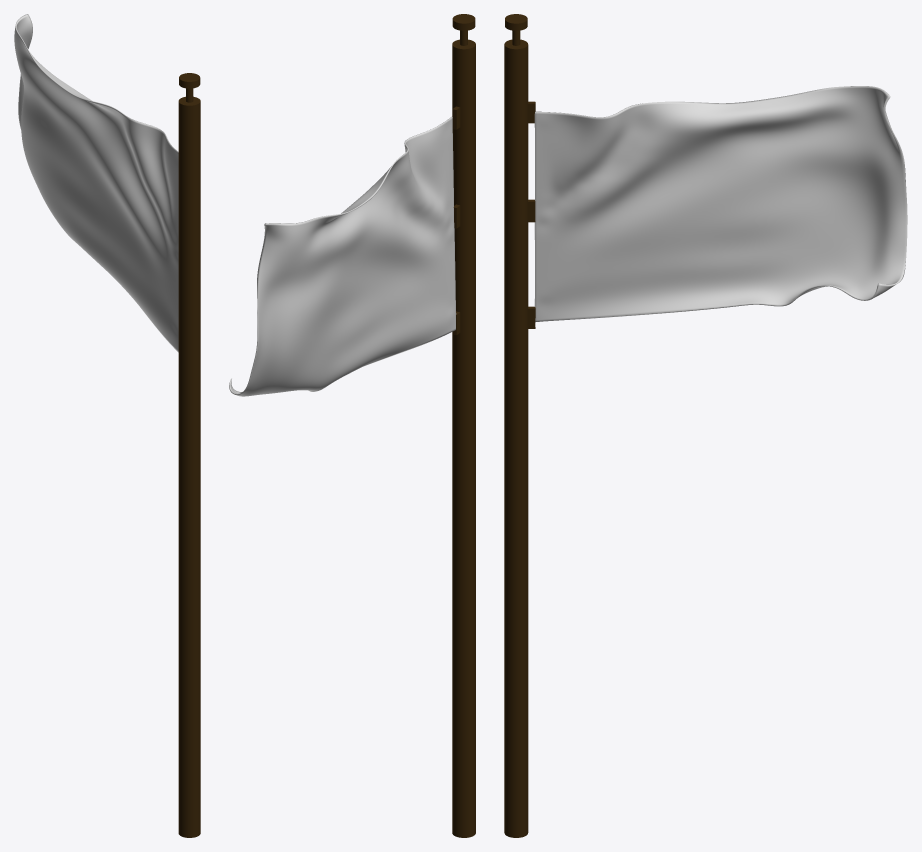
File: redflag3.fbx
3 renders of one model, left to right at view 1: azimuth 30°, elevation 25°; view 2: azimuth 150°, elevation 25°; view 3: azimuth 270°, elevation 25°, orthographic. The views are drawn at different scales.
Visible parts, largest first — view 1: Plane, Cylinder; view 2: Plane, Cylinder; view 3: Plane, Cylinder.
Part boxes in pixels (left/top/right/bottom): Plane: left=14, top=14, right=178, bottom=352; Cylinder: left=178, top=73, right=200, bottom=837; Plane: left=229, top=117, right=456, bottom=396; Cylinder: left=452, top=14, right=475, bottom=837; Plane: left=534, top=86, right=907, bottom=322; Cylinder: left=504, top=14, right=535, bottom=837.
Size of the model in its own units: 273 by 2826 by 1268.
